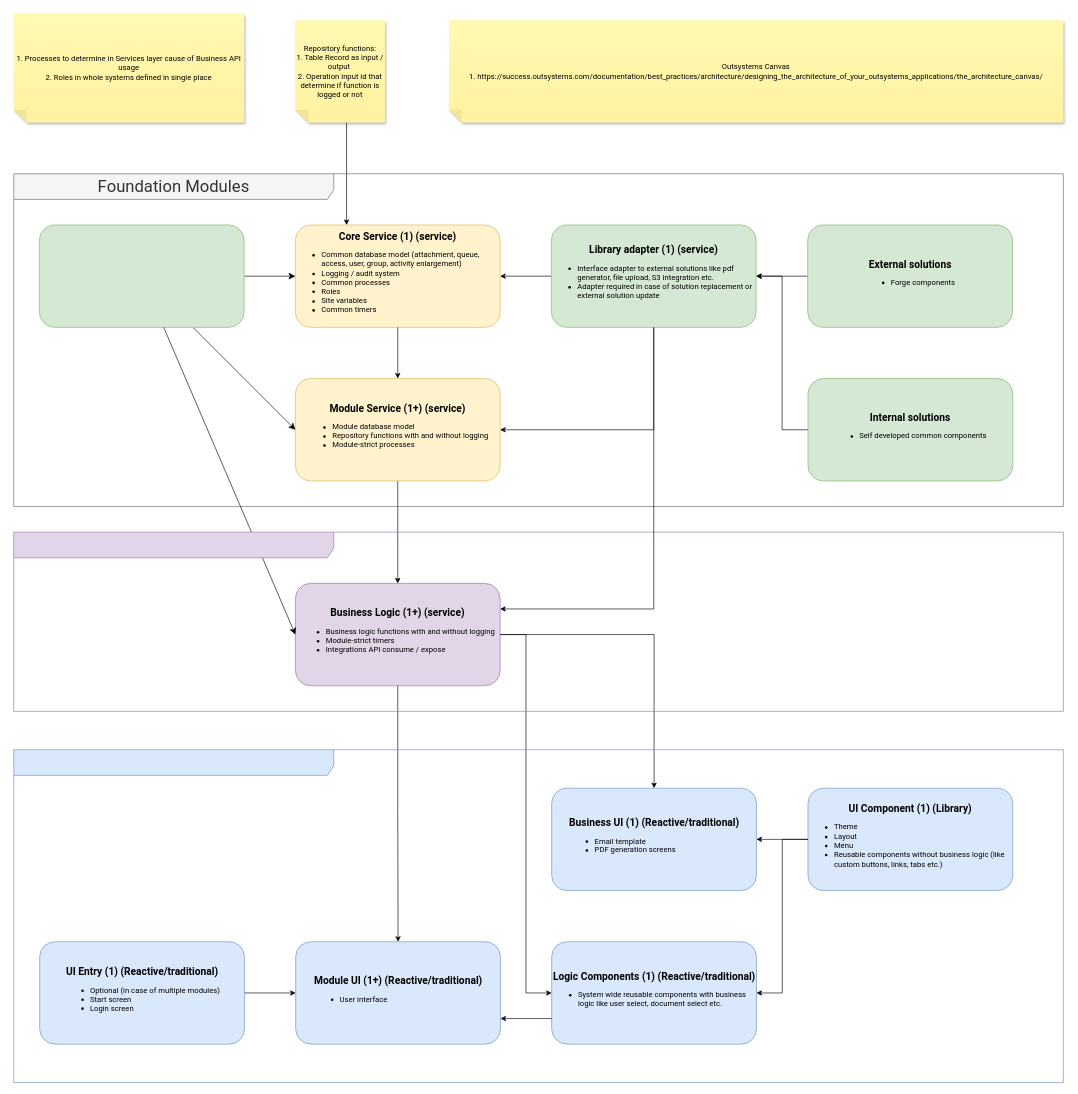
Image size: 1078x1094. Some labels were removed from this diagram. The centre of each missing label's shape, as x and y in pixels:
Core Modules: point 538,621
Database integration (1+) (service) External databases view: point 141,275
End User Modules: point 538,916
